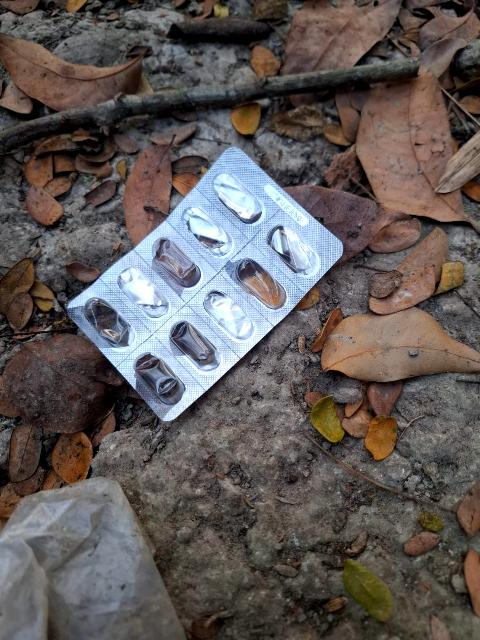medicine: (56, 136, 343, 429)
